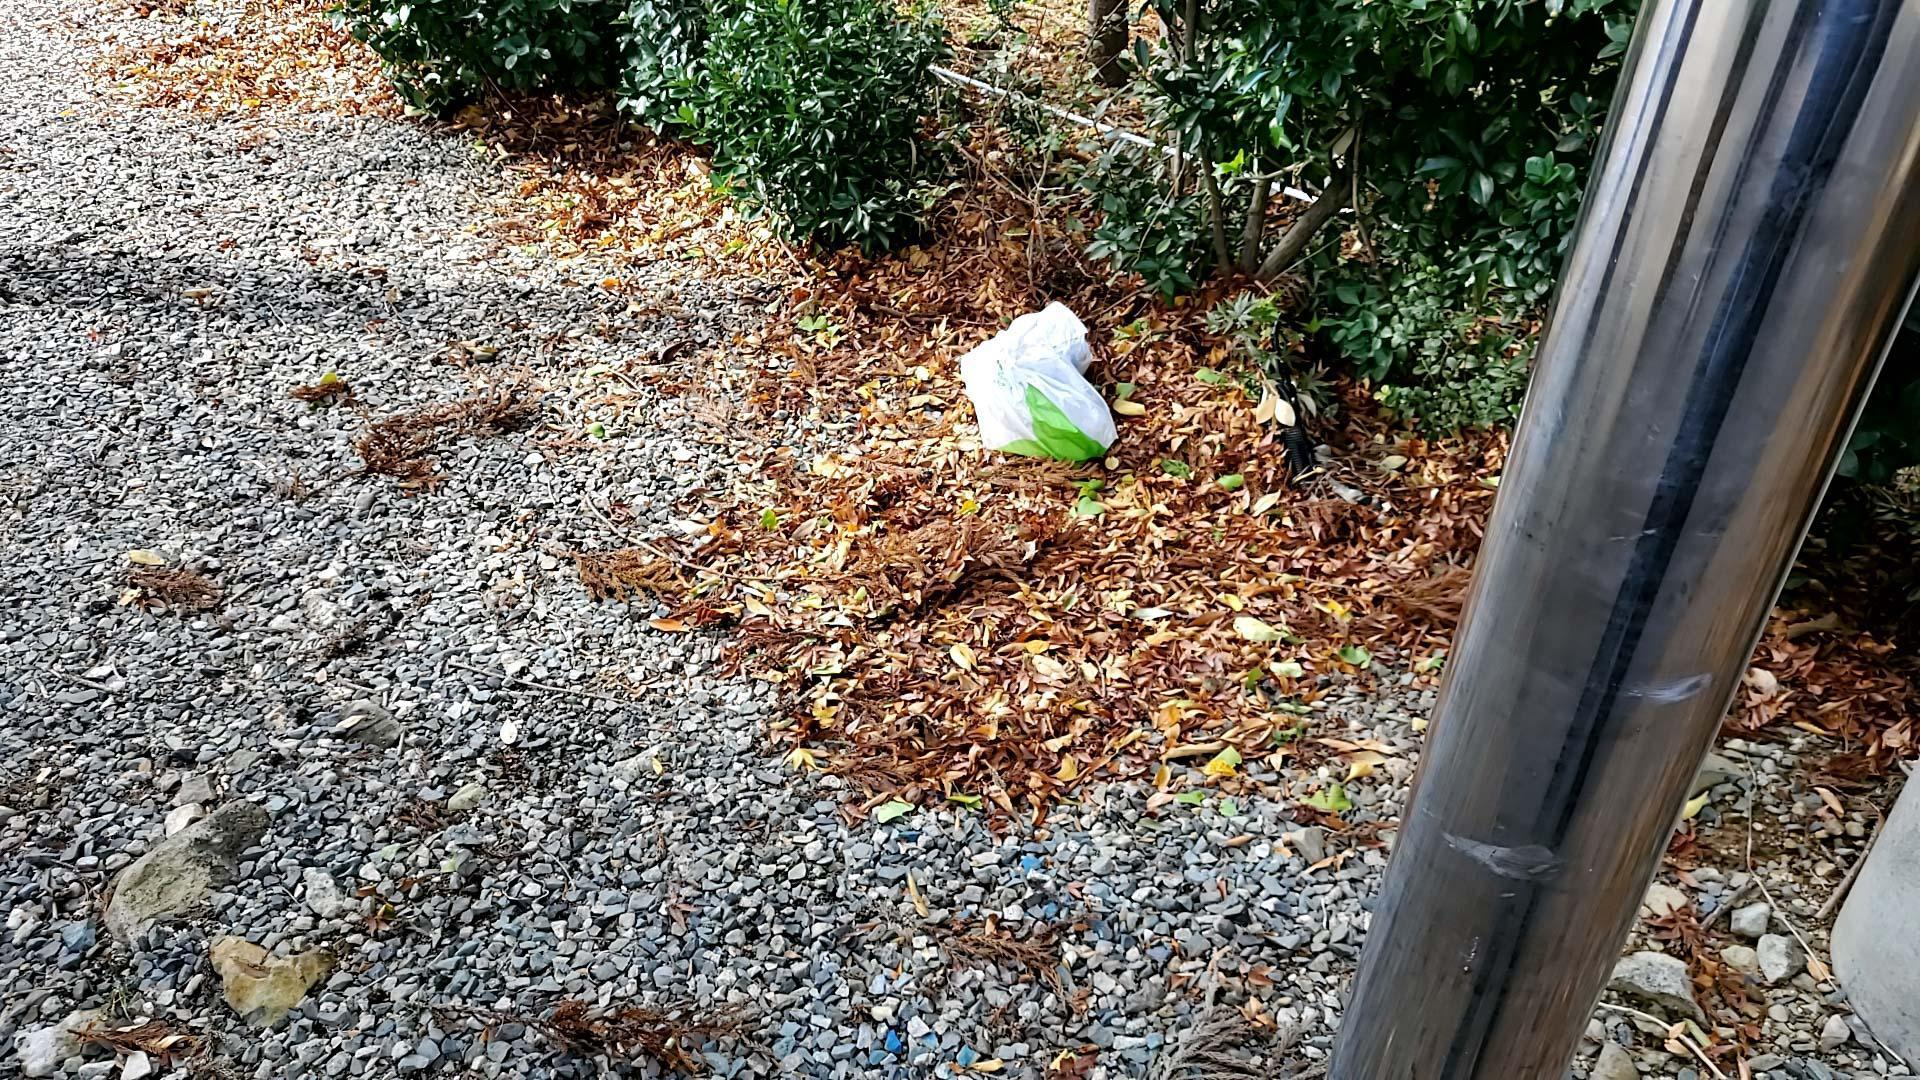white_bag: (936, 293, 1127, 475)
